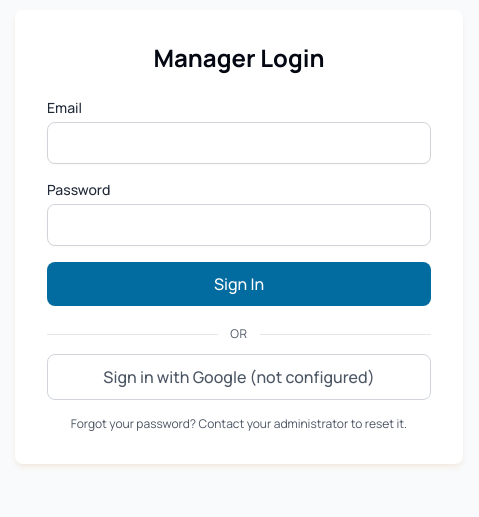
Scenario: Login page › shows account locked error on 423
Type "locked@brekora.test" into the field labelled "Email" at (239, 143), box 47,122 -> 431,164
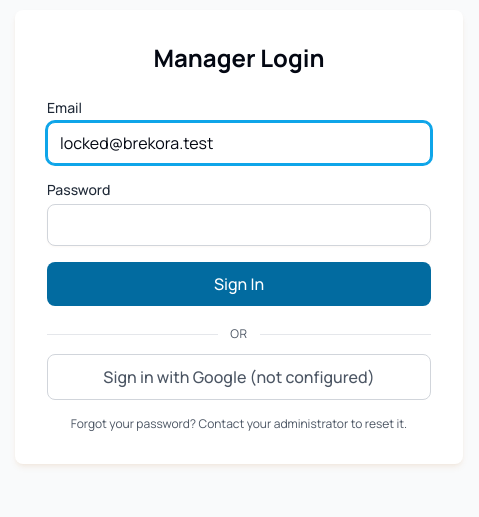
Type "Password123" into the password field labelled "Password" at (239, 225), box 47,204 -> 431,246
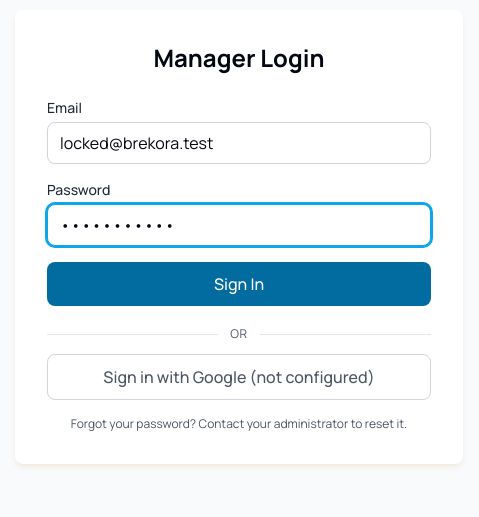
Click the button "Sign In" at (239, 284), box 47,262 -> 431,306
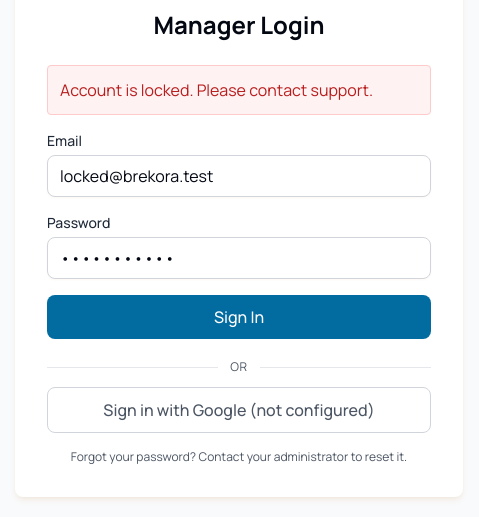
Now the message shows "Account is locked", box 60,79 -> 373,101
